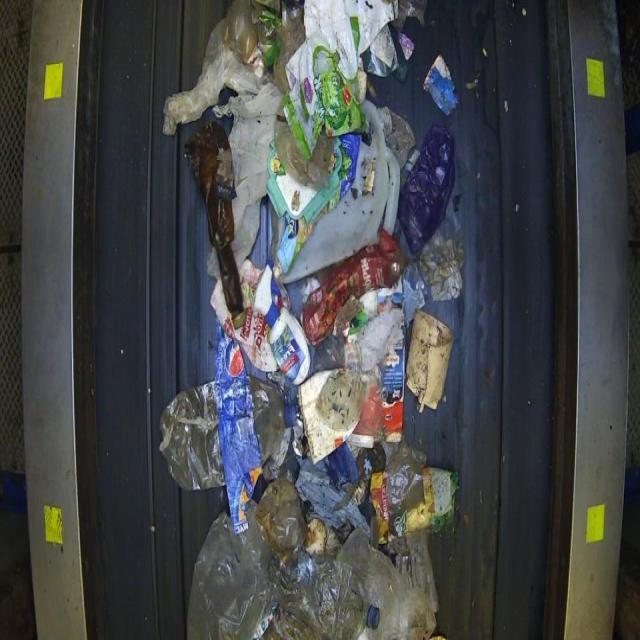organic-waste: (158, 0, 467, 638)
